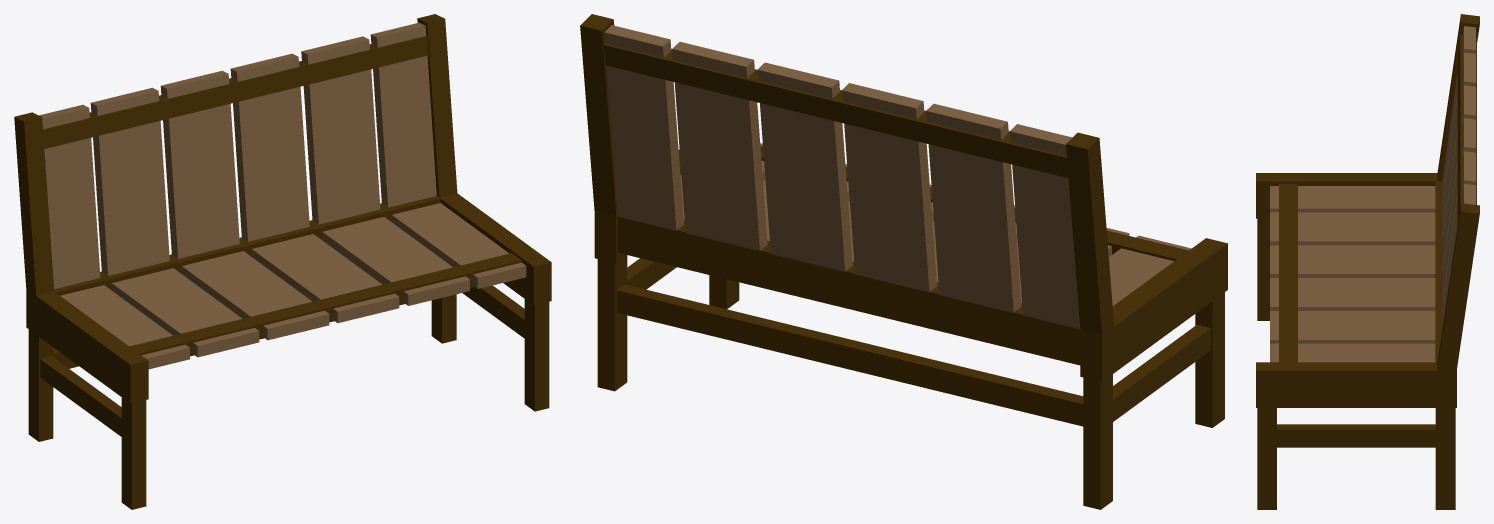
File: Bench.fbx
3 views of the same model, side by side, from view 1: azimuth 30°, elevation 25°; view 2: azimuth 150°, elevation 25°; view 3: azimuth 270°, elevation 25° (orthographic). The views are drawn at different scales.
Parts seen in each view (by area): view 1: pasted__group54_pasted__pasted__group53_pasted__pasted__past; view 2: pasted__group54_pasted__pasted__group53_pasted__pasted__past; view 3: pasted__group54_pasted__pasted__group53_pasted__pasted__past.
Boxes of the visible parts, x1,y1,x2,y2 form: pasted__group54_pasted__pasted__group53_pasted__pasted__past: [14, 14, 551, 509]; pasted__group54_pasted__pasted__group53_pasted__pasted__past: [580, 14, 1227, 509]; pasted__group54_pasted__pasted__group53_pasted__pasted__past: [1256, 14, 1479, 509].
Size of the model in its own units: 791 by 559 by 379.
